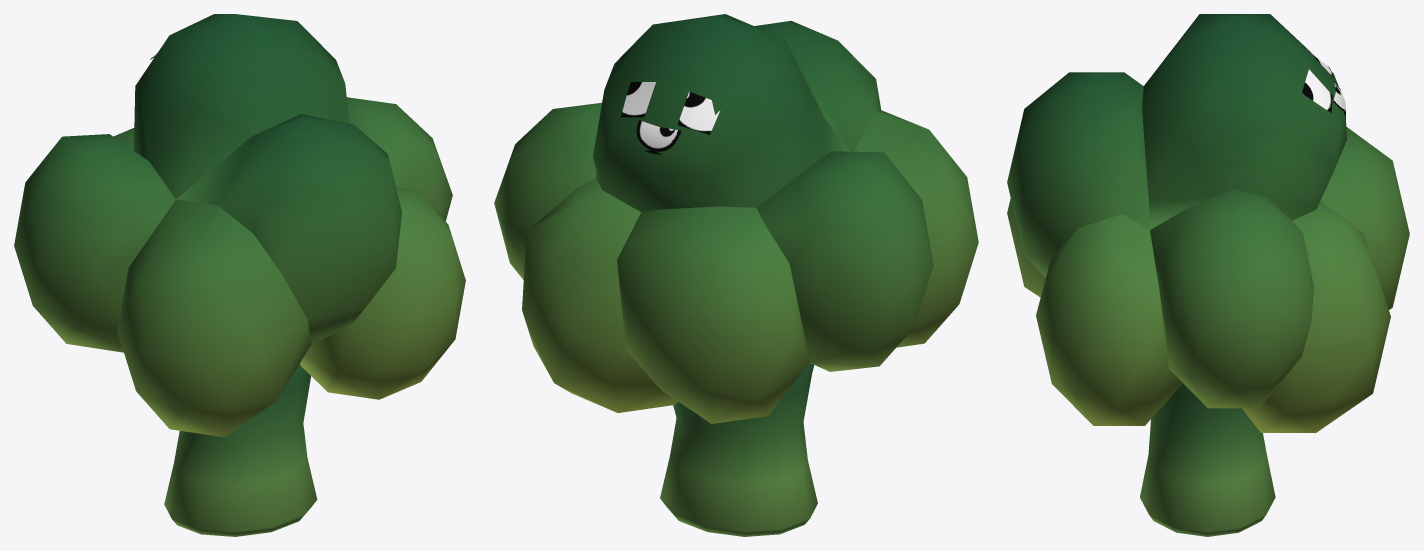
File: broccoli_smile.fbx
The picture shows the model from 3 angles, left to right: view 1: azimuth 30°, elevation 25°; view 2: azimuth 150°, elevation 25°; view 3: azimuth 270°, elevation 25°; orthographic projection. The views are drawn at different scales.
Parts seen in each view (by area): view 1: broccoli; view 2: broccoli; view 3: broccoli.
Boxes of the visible parts, bbox=[...] form: broccoli: bbox=[14, 14, 465, 536]; broccoli: bbox=[494, 14, 978, 536]; broccoli: bbox=[1007, 14, 1409, 536].
Bounding box in the file's own units: 48.76 × 55.79 × 41.28.
